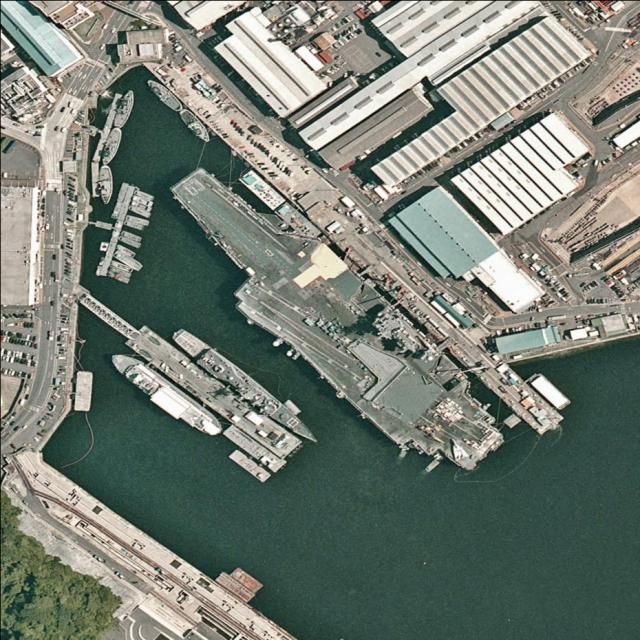Aircraft Carrier: (141, 139, 518, 505)
Dock: (123, 319, 301, 467)
Frigate: (168, 322, 322, 451)
Other Ship: (142, 77, 186, 114), (177, 105, 215, 146), (98, 126, 125, 169), (113, 87, 139, 130), (98, 165, 114, 204)
Yacht: (105, 343, 227, 445)
